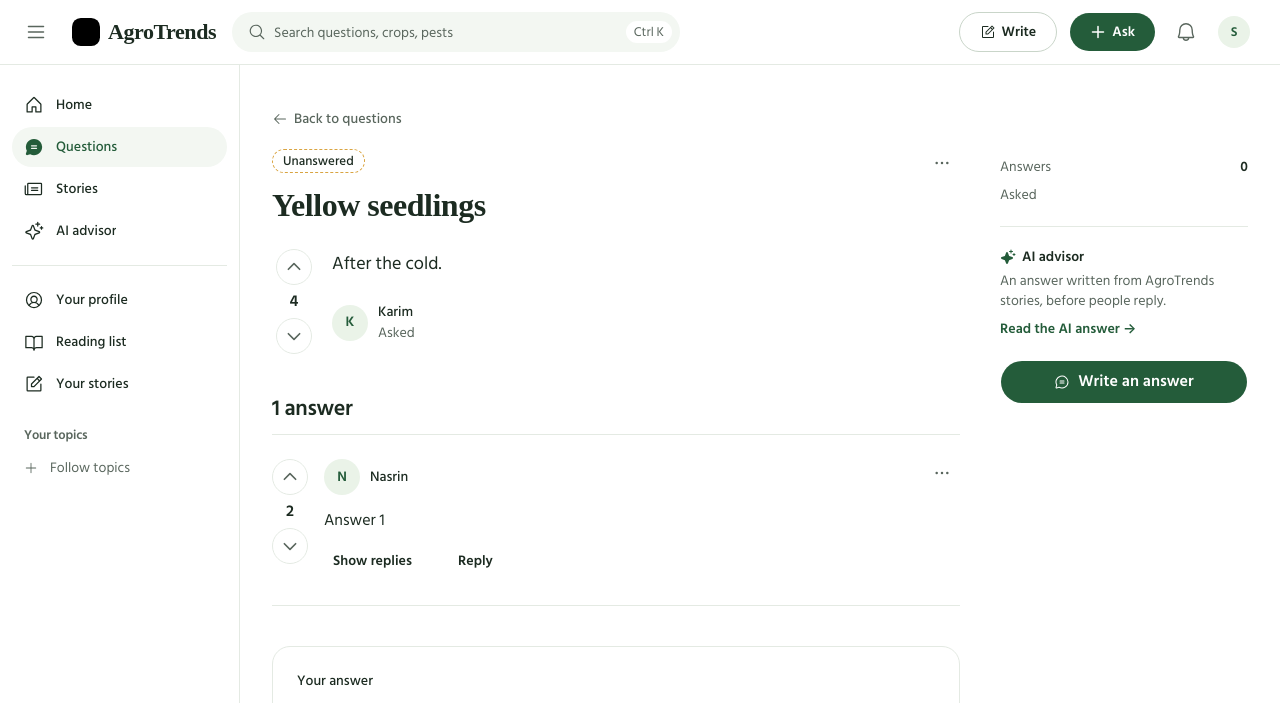
Test: a refused downvote rolls back and shows the backend’s message
Click the button named "Downvote this answer" at point(290, 546), box x1=272 y1=528 x2=308 y2=564
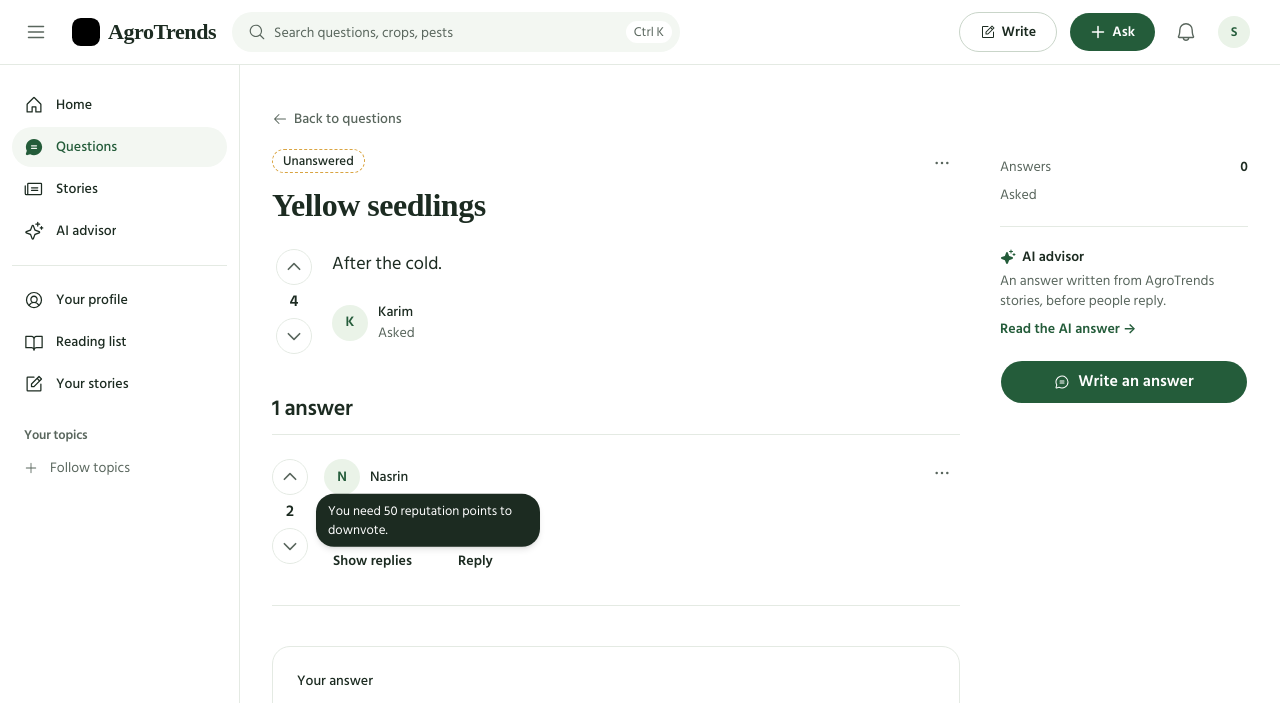
Expected: the text "2" is shown, x1=278 y1=499 x2=302 y2=524
Now the message reads "You need 50 reputation points to downvote.", box x1=328 y1=500 x2=512 y2=540
